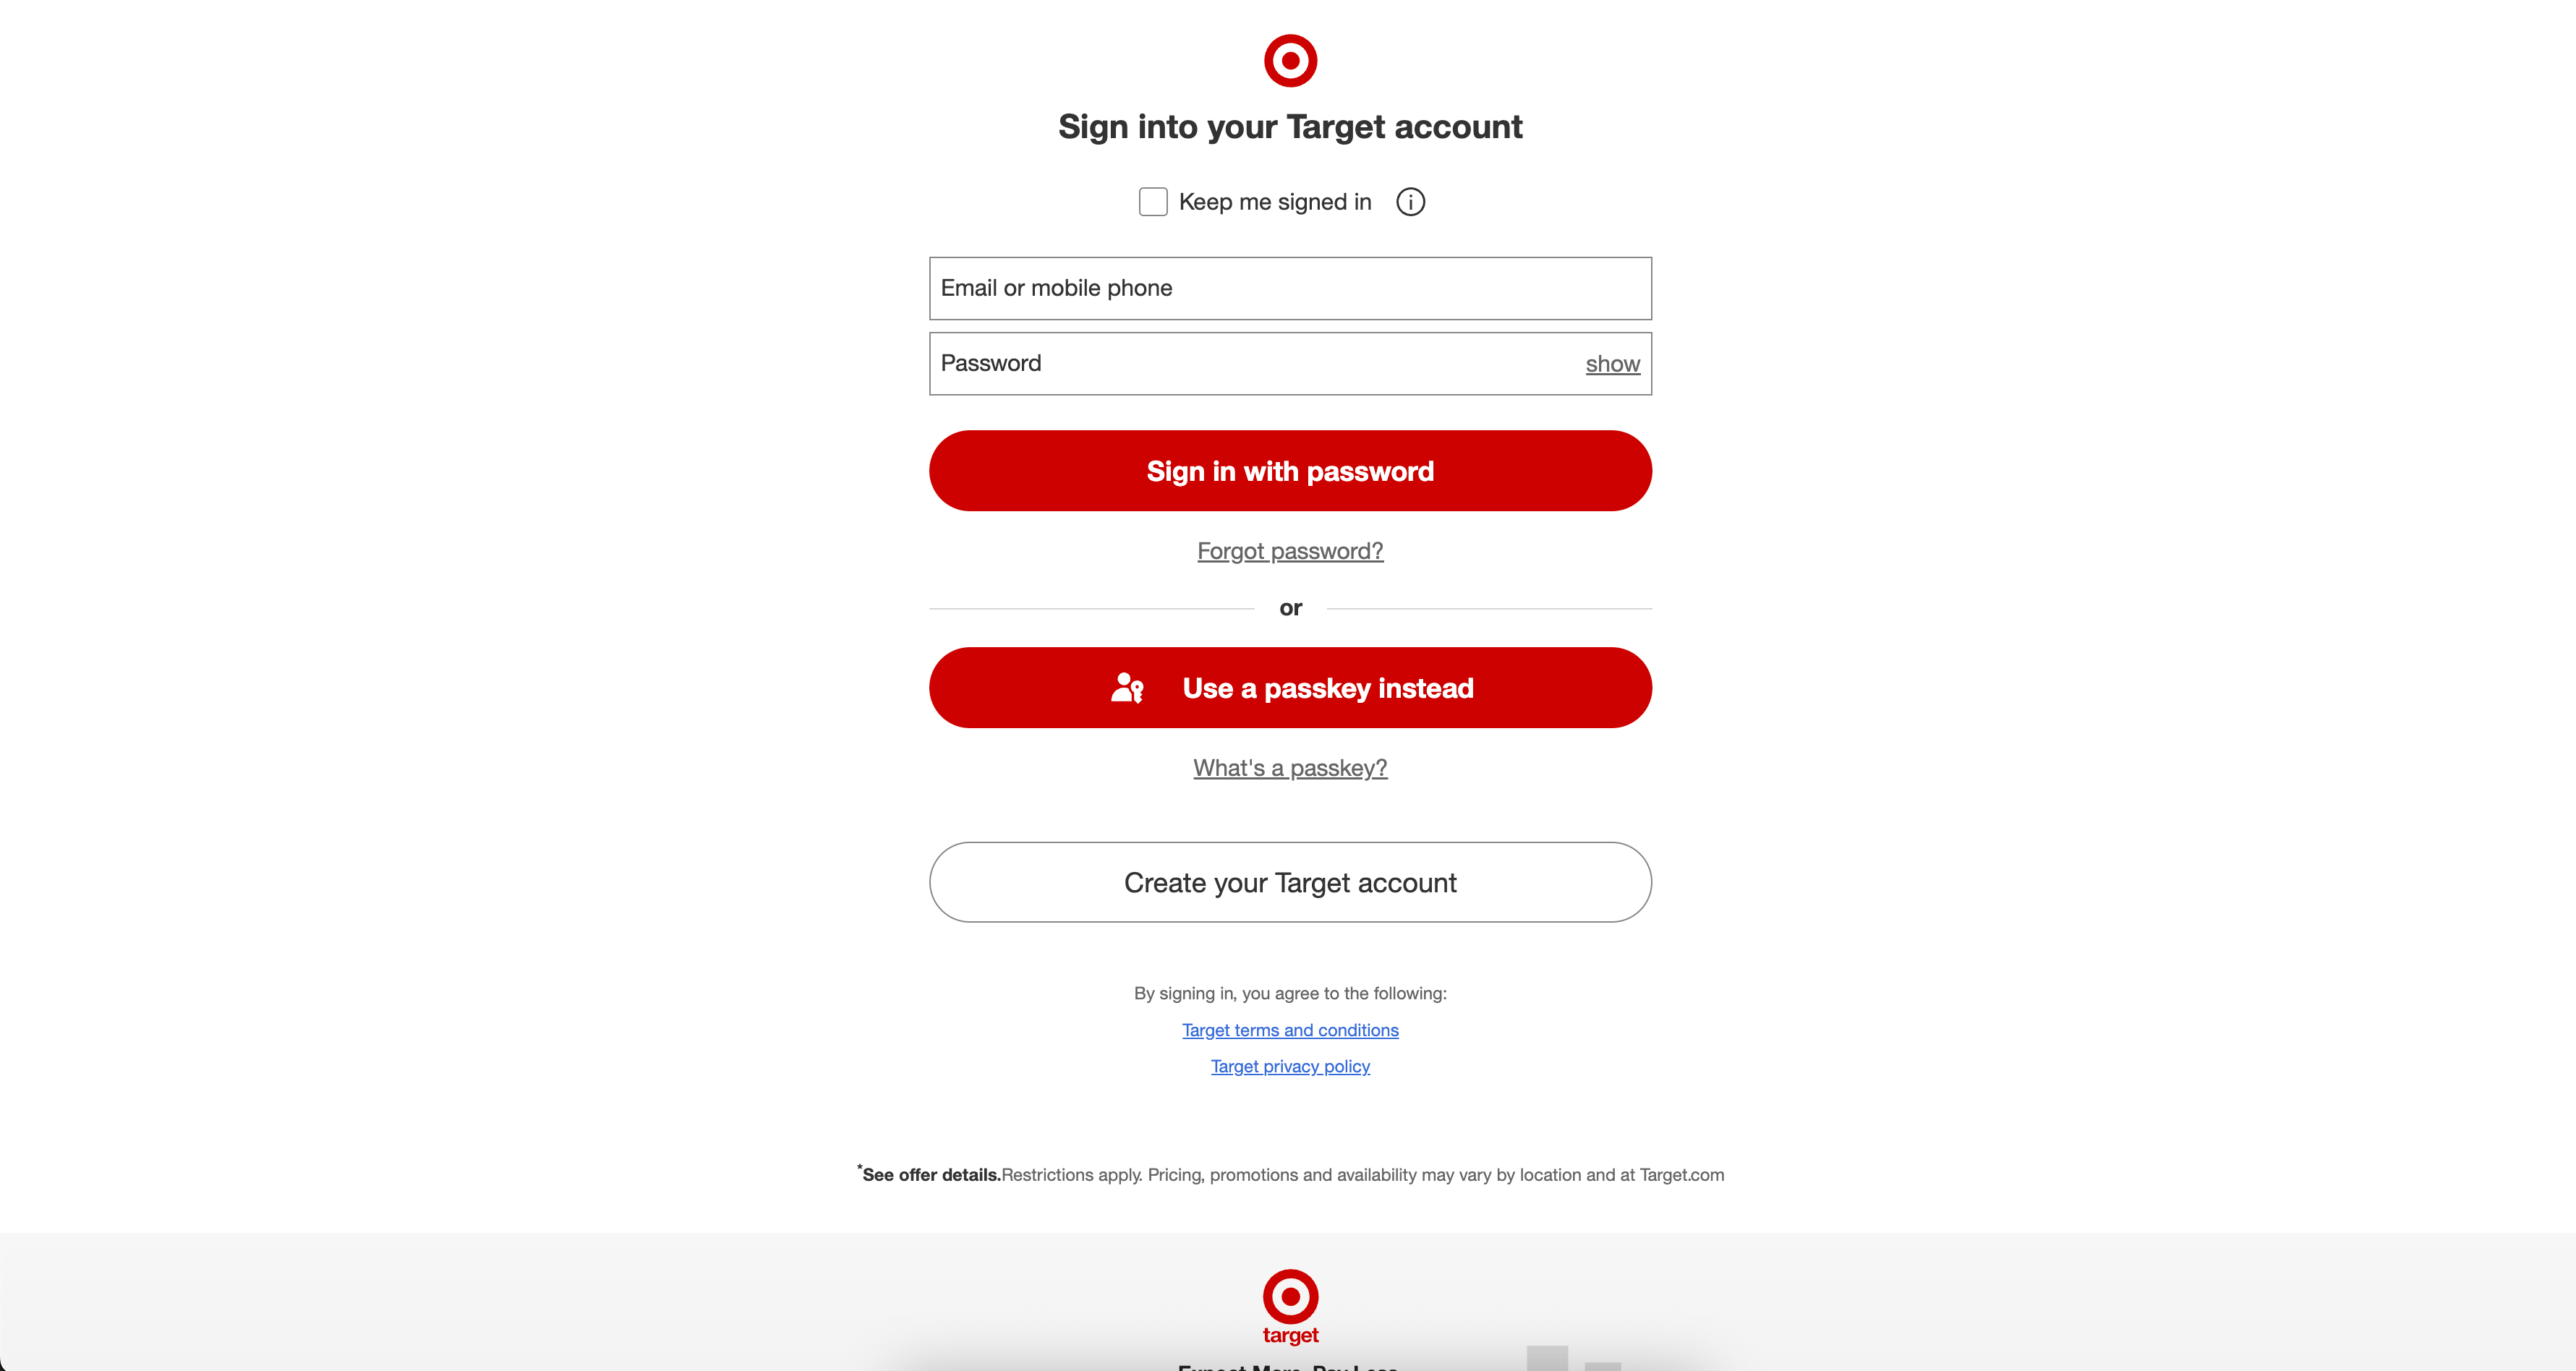button: (929, 840, 1654, 925), (930, 429, 1654, 513), (929, 645, 1651, 729)
input: (929, 330, 1654, 399), (927, 255, 1654, 322)
label: (939, 278, 1176, 305), (940, 351, 1044, 376)
